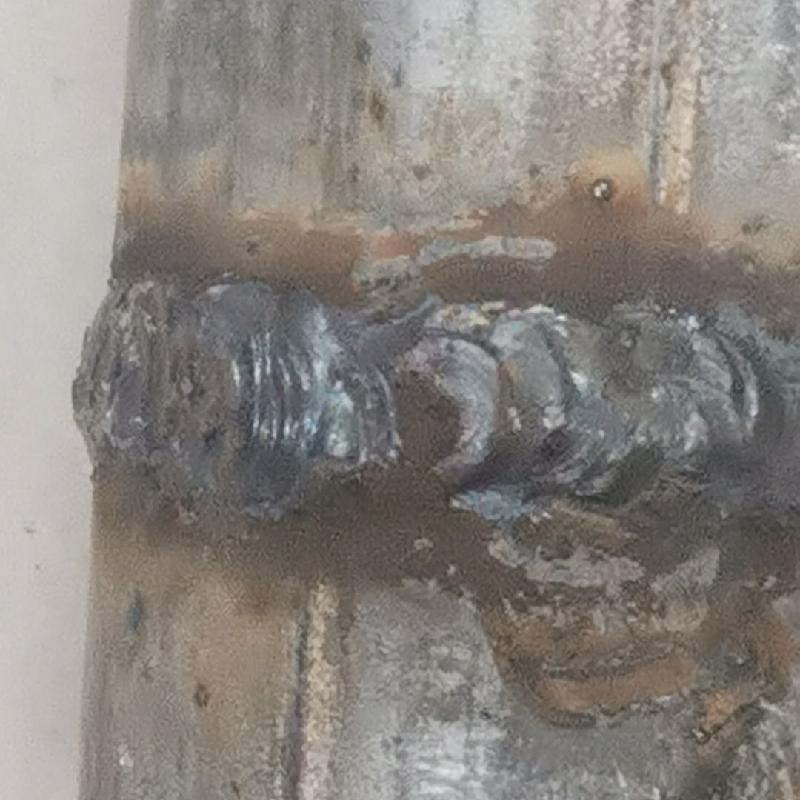good: (80, 270, 799, 499)
